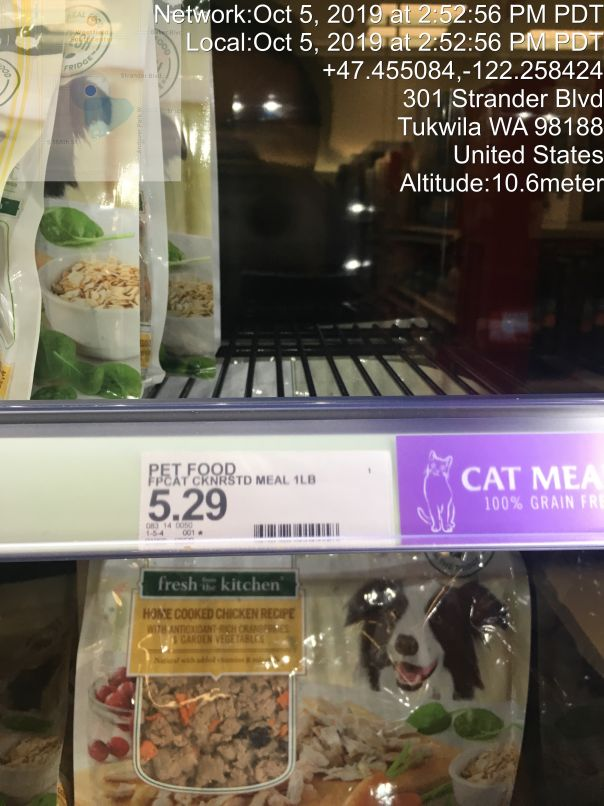Label: (139, 450, 399, 554)
Location: (394, 82, 604, 172)
Pet Food: (80, 564, 531, 798)
Time: (151, 2, 604, 59)
Void: (227, 34, 512, 377)
